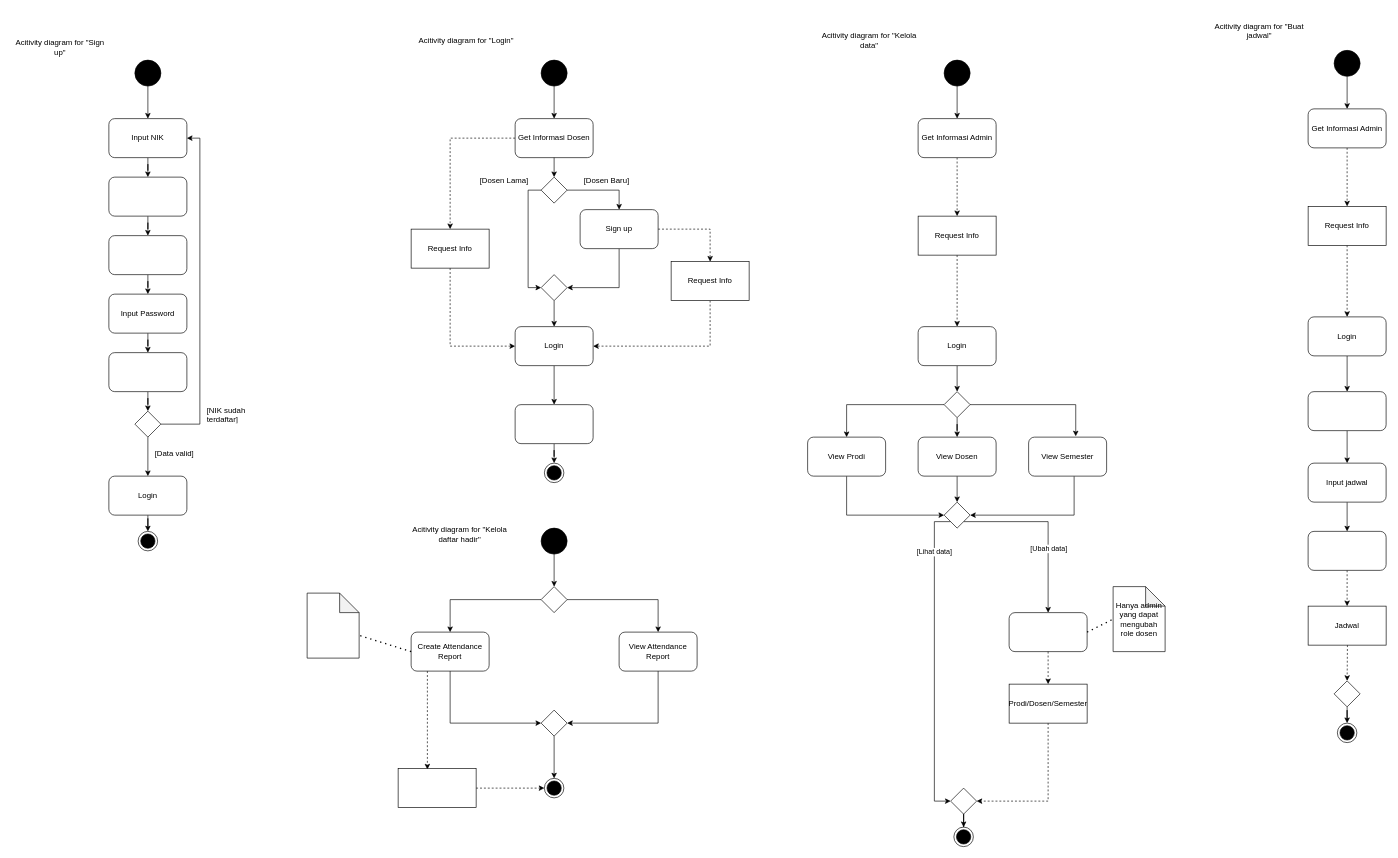
Some shapes in this 1398 by 858 pixel diagram are drawn without their labels. Each missing label, with the centre of its shape:
Attendance: pixel 436 788
Change Data: pixel 1047 632
Enroll dosen: pixel 1346 550
Input Email: pixel 147 196
Input Nama: pixel 147 255
Post Informasi Dosen: pixel 147 372
Upload bukti kehadiran dan tambah asisten: pixel 332 625
View Dashboard: pixel 553 424
View Jadwal: pixel 1346 411
